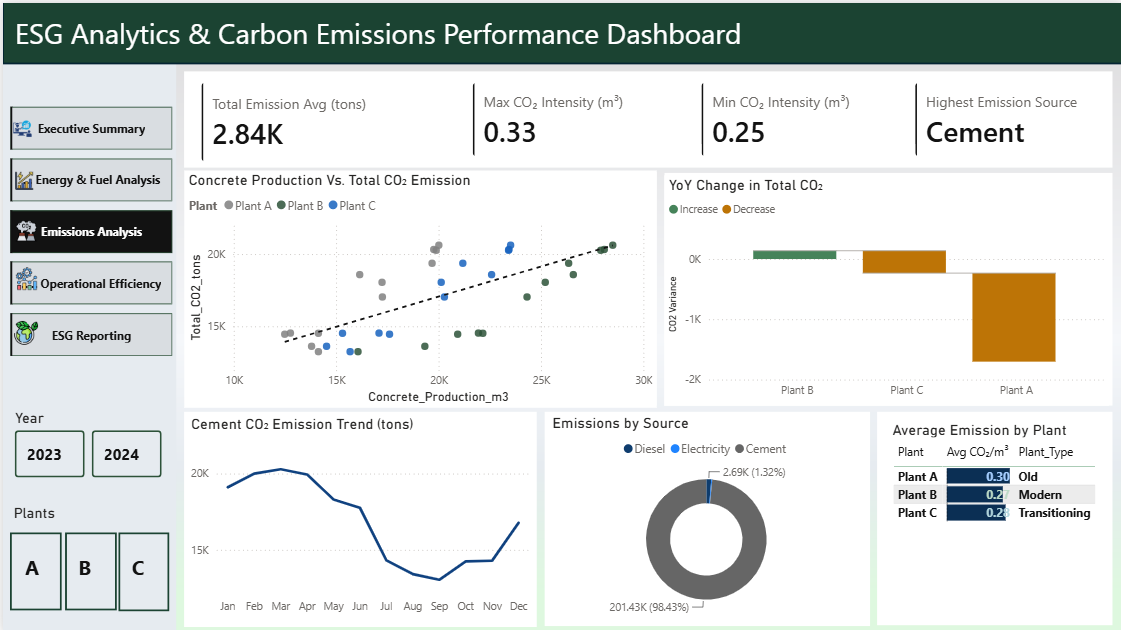

What the dashboard file says about the page in this screenshot:
{"tool":"powerbi","page":{"name":"Emissions Analysis","canvas":[1280,720],"ordinal":2},"visuals":[{"type":"cardVisual","fields":{"Data":["Dax.Avg Total CO₂"]},"box":[209.9,74.1,236,124.9],"z":0},{"type":"image","box":[11,193.4,26.1,20.6],"z":0,"group":"g1"},{"type":"cardVisual","fields":{"Data":["Dax.Max CO2 Intensity"]},"box":[520.1,74.1,225,118],"z":1000},{"type":"image","box":[13.7,240.1,24.7,41.2],"z":1000,"group":"g1"},{"type":"cardVisual","fields":{"Data":["Dax.Min CO2 Intensity"]},"box":[780.8,74.1,234.6,118],"z":2000},{"type":"image","box":[12.4,297.7,27.4,35.7],"z":2000,"group":"g1"},{"type":"image","box":[12.4,359.5,27.4,37],"z":3000,"group":"g1"},{"type":"lineChart","title":"Cement CO₂ Emission Trend (tons)","fields":{"Category":["DateTable.Month Name"],"Y":["Sum(emissions3.Cement_CO2_tons)"]},"box":[209.9,470.7,396.6,237.4],"z":3000},{"type":"image","box":[11,126.2,22,35.7],"z":4000,"group":"g1"},{"type":"donutChart","title":"Emissions by Source","fields":{"Y":["Sum(emissions3.Diesel_CO2_tons)","Sum(emissions3.Electricity_CO2_tons)","Sum(emissions3.Cement_CO2_tons)"]},"box":[623,469.3,362.3,237.4],"z":4000},{"type":"scatterChart","title":"Concrete Production Vs. Total CO₂ Emission","fields":{"X":["Sum(production5.Concrete_Production_m3)"],"Category":["DateTable.Month Name"],"Y":["Sum(emissions3.Total_CO2_tons)"],"Series":["production5.Plant"]},"box":[207.1,191.4,540,271.4],"z":5000},{"type":"waterfallChart","title":"YoY Change in Total CO₂","fields":{"Category":["plants1.Plant"],"Y":["Dax.CO2 Variance"]},"box":[756.1,197.6,507.7,263.5],"z":6000},{"type":"tableEx","title":"Average Emission  by Plant","fields":{"Values":["emissions3.Plant","Dax.Avg CO₂/m³","plants1.Plant_Type"]},"box":[1011.3,477.5,251.1,229.2],"z":7000},{"type":"cardVisual","fields":{"Data":["Dax.Highest Emission Source"]},"box":[1026.4,74.1,236,118],"z":8000},{"type":"advancedSlicerVisual","title":"Plants","fields":{"Values":["plants1.Plant Letter"]},"box":[6.9,572.2,186.6,123.5],"z":9000},{"type":"advancedSlicerVisual","fields":{"Values":["DateTable.Year"]},"box":[8.2,463.8,178.4,83.7],"z":10000},{"type":"textbox","box":[8.2,6.9,860.4,65.9],"z":11000},{"type":"pageNavigator","box":[8.2,118,185.2,286.8],"z":12000},{"type":"group","id":"g1","title":"Group 1","box":[11,126.2,28.8,270.3],"z":13000}]}

Visuals, with their boxes in screenshot pixels (x1, y1, x2, y2), scaled from the page's 1280x720 canvas onto the 1121x630 screenshot:
cardVisual - Dax.Avg Total CO₂: crop(184, 65, 391, 174)
image: crop(10, 169, 32, 187)
cardVisual - Dax.Max CO2 Intensity: crop(455, 65, 653, 168)
image: crop(12, 210, 34, 246)
cardVisual - Dax.Min CO2 Intensity: crop(684, 65, 889, 168)
image: crop(11, 260, 35, 292)
image: crop(11, 315, 35, 347)
"Cement CO₂ Emission Trend (tons)" lineChart: crop(184, 412, 531, 620)
image: crop(10, 110, 29, 142)
"Emissions by Source" donutChart: crop(546, 411, 863, 618)
"Concrete Production Vs. Total CO₂ Emission" scatterChart: crop(181, 167, 654, 405)
"YoY Change in Total CO₂" waterfallChart: crop(662, 173, 1107, 403)
"Average Emission  by Plant" tableEx: crop(886, 418, 1106, 618)
cardVisual - Dax.Highest Emission Source: crop(899, 65, 1106, 168)
"Plants" advancedSlicerVisual: crop(6, 501, 169, 609)
advancedSlicerVisual - DateTable.Year: crop(7, 406, 163, 479)
textbox: crop(7, 6, 761, 64)
pageNavigator: crop(7, 103, 169, 354)
"Group 1" group: crop(10, 110, 35, 347)
